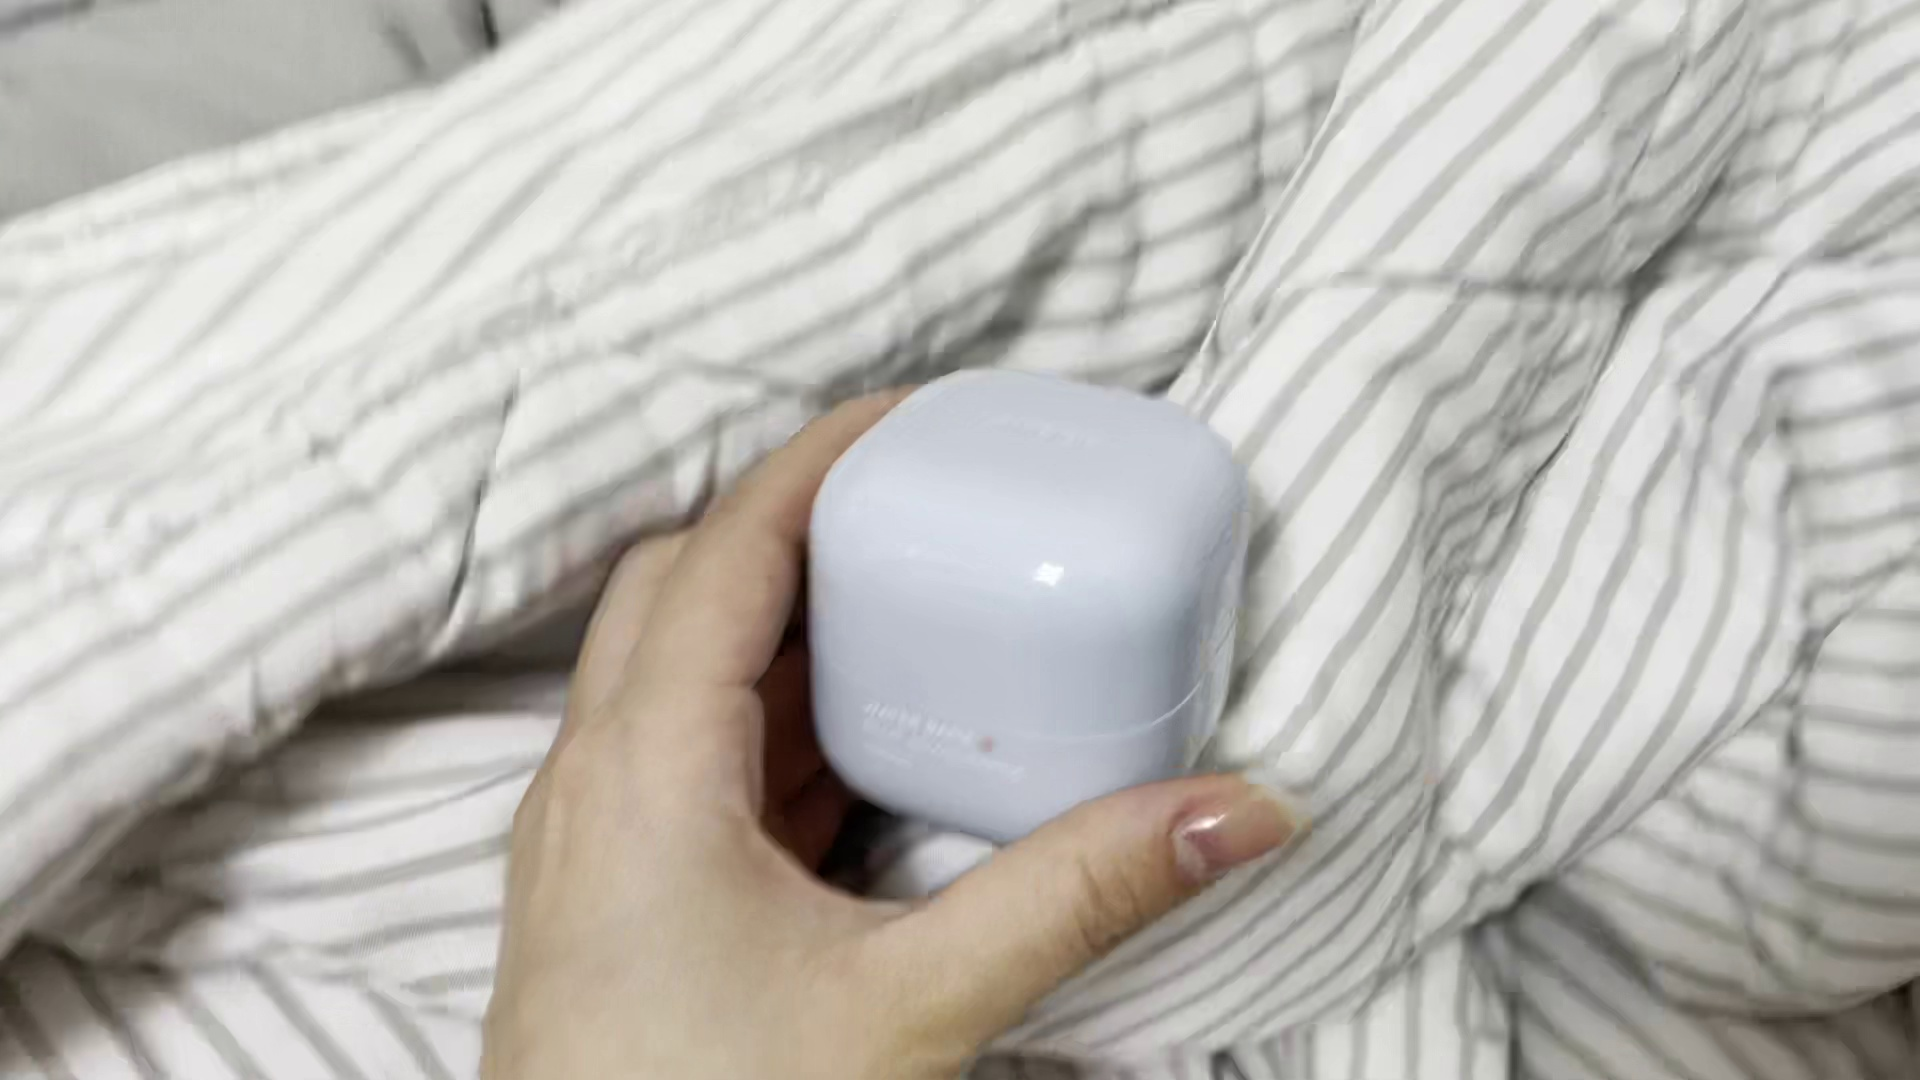cream: (808, 367, 1257, 848)
